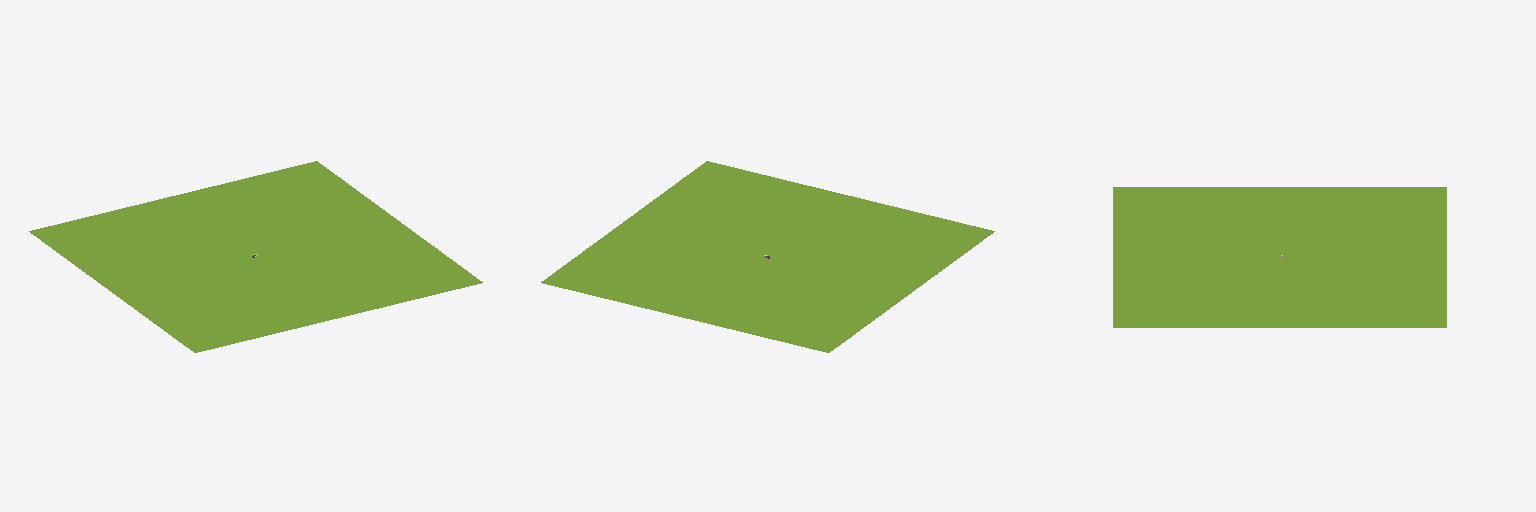
3 views of the same model, side by side, from view 1: azimuth 30°, elevation 25°; view 2: azimuth 150°, elevation 25°; view 3: azimuth 270°, elevation 25° (orthographic).
Visible parts, largest first — view 1: floor; view 2: floor; view 3: floor.
Boxes of the visible parts, <box> form: floor: <box>29,161,482,352</box>; floor: <box>541,161,994,352</box>; floor: <box>1113,187,1446,327</box>.
Size of the model in its own units: 120 by 0.9867 by 120.